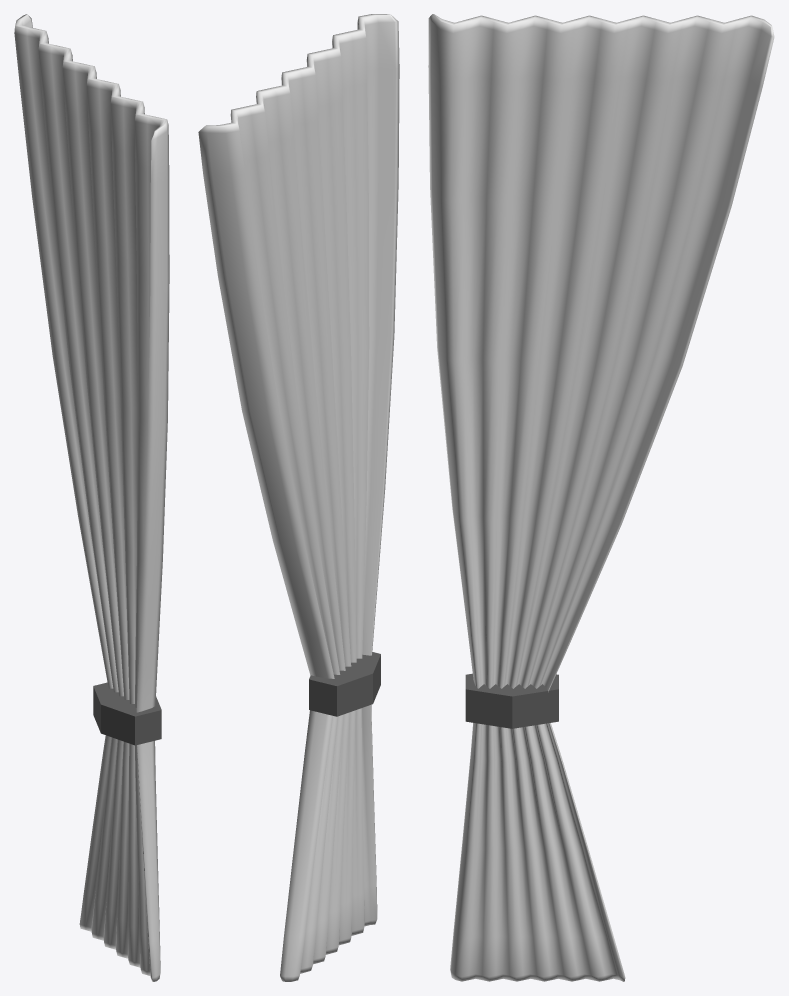
The model's file is Perde.fbx.
3 renders of one model, left to right at view 1: azimuth 30°, elevation 25°; view 2: azimuth 150°, elevation 25°; view 3: azimuth 270°, elevation 25°, orthographic. The views are drawn at different scales.
Parts seen in each view (by area): view 1: Plane.001; view 2: Plane.001; view 3: Plane.001.
Part boxes in pixels (x1,y1,x2,y2): Plane.001: (14,14,169,981); Plane.001: (198,14,399,981); Plane.001: (428,14,774,981).
Bounding box in the file's own units: 22.21 × 342 × 112.
